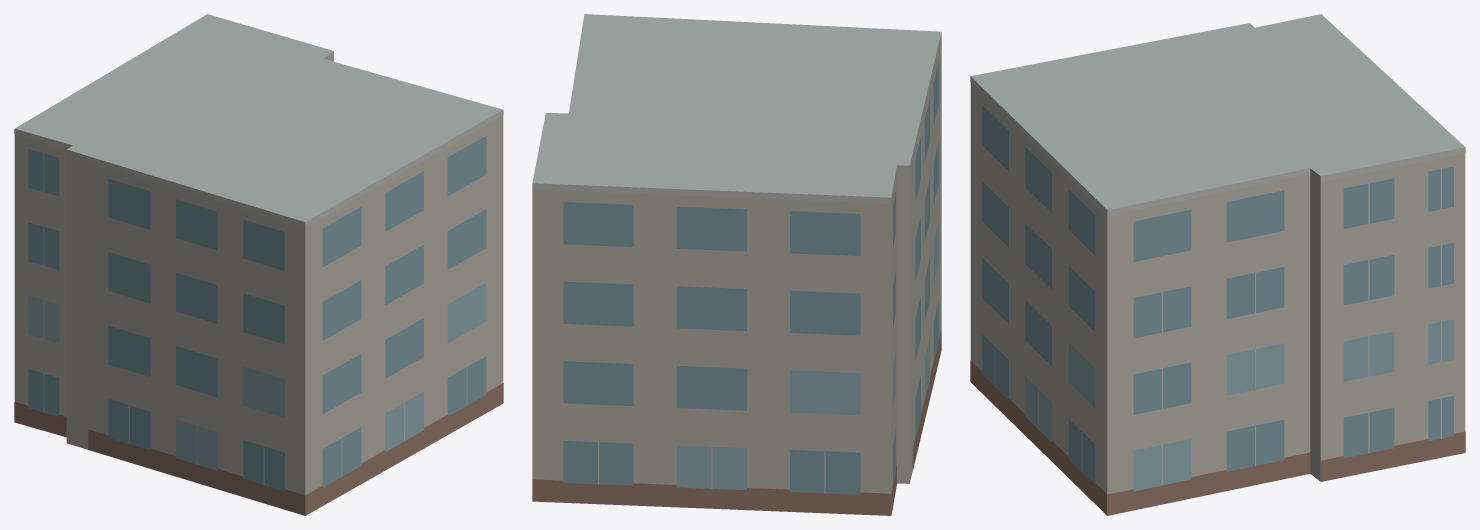
The model's file is survey-upis-32732797.glb.
3 views of the same model, side by side, from view 1: azimuth 30°, elevation 25°; view 2: azimuth 150°, elevation 25°; view 3: azimuth 270°, elevation 25° (orthographic). The views are drawn at different scales.
Visible parts, largest first — view 1: survey-upis-32732797.tmp; view 2: survey-upis-32732797.tmp; view 3: survey-upis-32732797.tmp.
Boxes of the visible parts, bbox=[...] form: survey-upis-32732797.tmp: bbox=[14, 14, 503, 515]; survey-upis-32732797.tmp: bbox=[532, 14, 941, 515]; survey-upis-32732797.tmp: bbox=[970, 14, 1465, 515].
Bounding box in the file's own units: 17.48 × 12.7 × 18.65.
